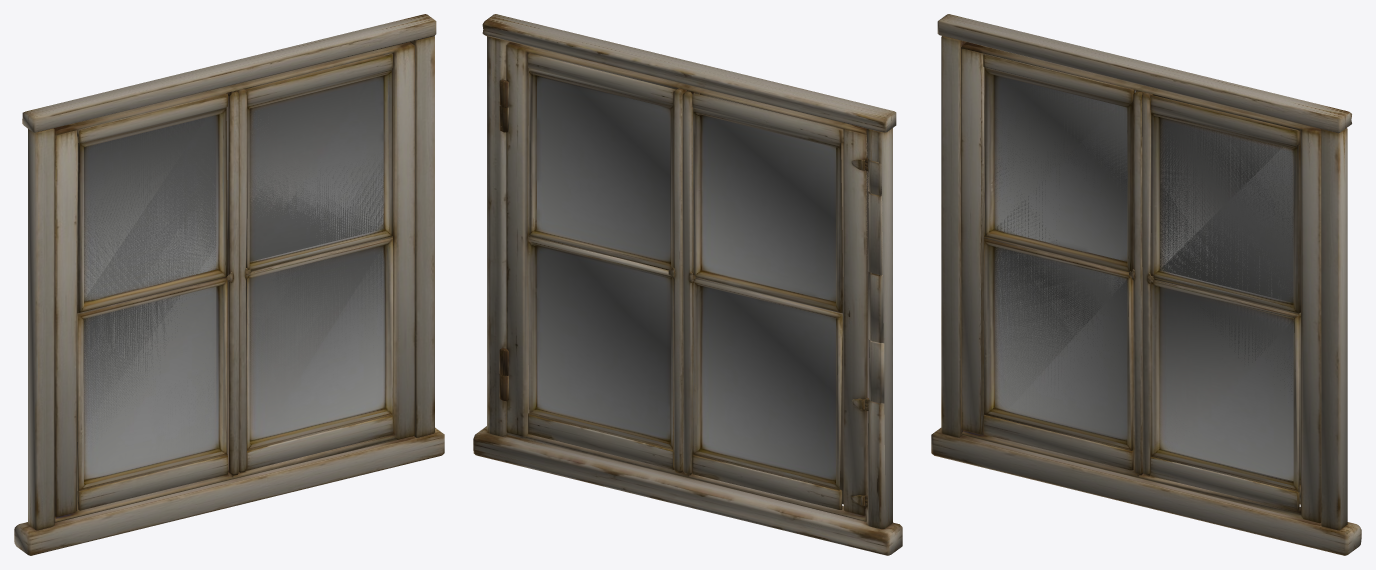
Rendered from architecture-window-four-pane.glb.
3 views of the same model, side by side, from view 1: azimuth 30°, elevation 25°; view 2: azimuth 150°, elevation 25°; view 3: azimuth 330°, elevation 25° (orthographic).
Visible parts, largest first — view 1: tripo_node_a77161bf-bf8a-42e8-8aee-4de7f6006204; view 2: tripo_node_a77161bf-bf8a-42e8-8aee-4de7f6006204; view 3: tripo_node_a77161bf-bf8a-42e8-8aee-4de7f6006204.
Part boxes in pixels (x1,y1,x2,y2): tripo_node_a77161bf-bf8a-42e8-8aee-4de7f6006204: [14, 14, 444, 555]; tripo_node_a77161bf-bf8a-42e8-8aee-4de7f6006204: [473, 14, 902, 555]; tripo_node_a77161bf-bf8a-42e8-8aee-4de7f6006204: [931, 14, 1361, 555].
Bounding box in the file's own units: 1.2 × 1.2 × 0.08.
Materials: 1 (1 with a texture image).
